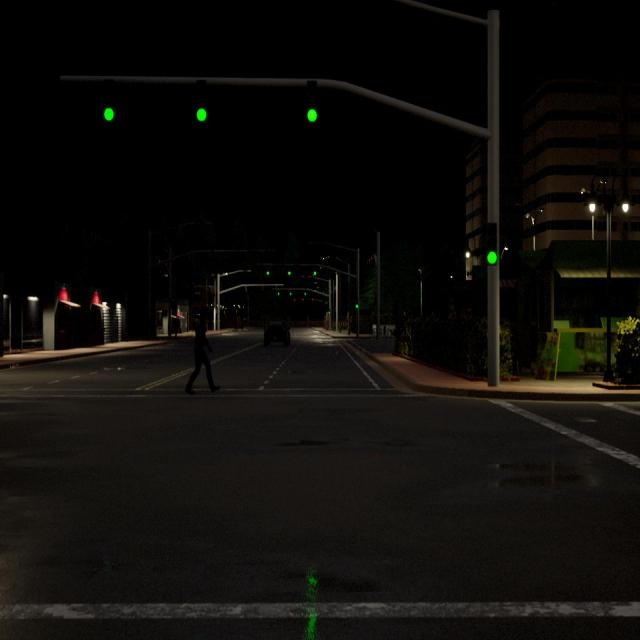Pedestrian: (185, 308, 219, 394)
Vehicle: (264, 320, 291, 349)
traffic_light: (485, 224, 498, 268), (306, 80, 318, 122), (196, 78, 207, 122), (104, 81, 116, 121), (313, 270, 317, 276), (266, 270, 270, 276), (355, 304, 359, 309), (372, 256, 374, 266), (369, 258, 371, 266), (293, 298, 296, 303), (288, 271, 291, 276), (366, 260, 368, 267), (277, 292, 280, 296), (302, 298, 305, 302), (328, 312, 331, 316), (304, 293, 307, 296), (290, 292, 292, 296), (312, 298, 314, 302)
